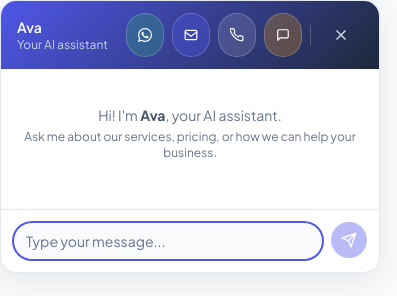
it: ChatPanel › input field › send button is enabled after typing text
Type "test message" into the field with placeholder "Type your message..." at (168, 241), box [13,222,323,260]
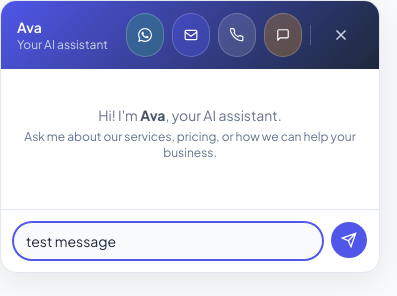
Now the button named "Send message" is enabled, box [331,222,367,258]
